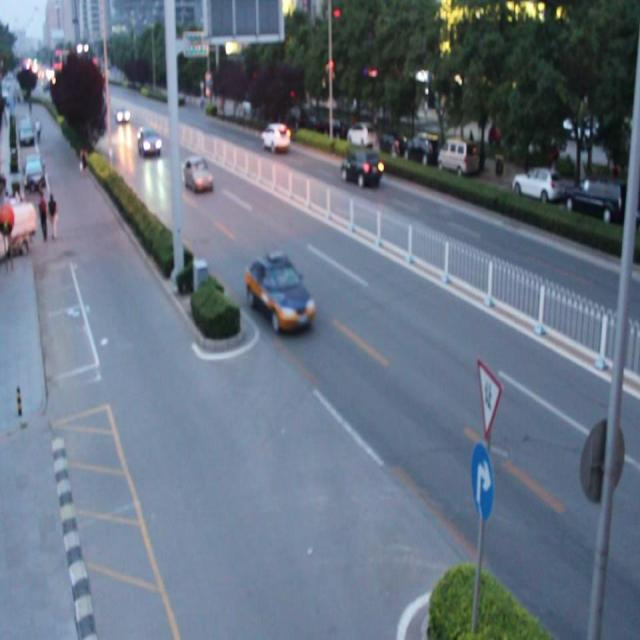car: (245, 252, 316, 334), (339, 146, 382, 189), (182, 154, 214, 193), (260, 123, 290, 151), (137, 127, 161, 160)
